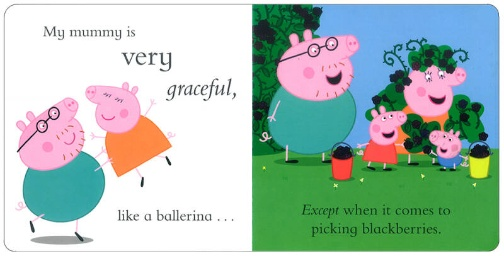Peppa: (357, 105, 409, 174)
